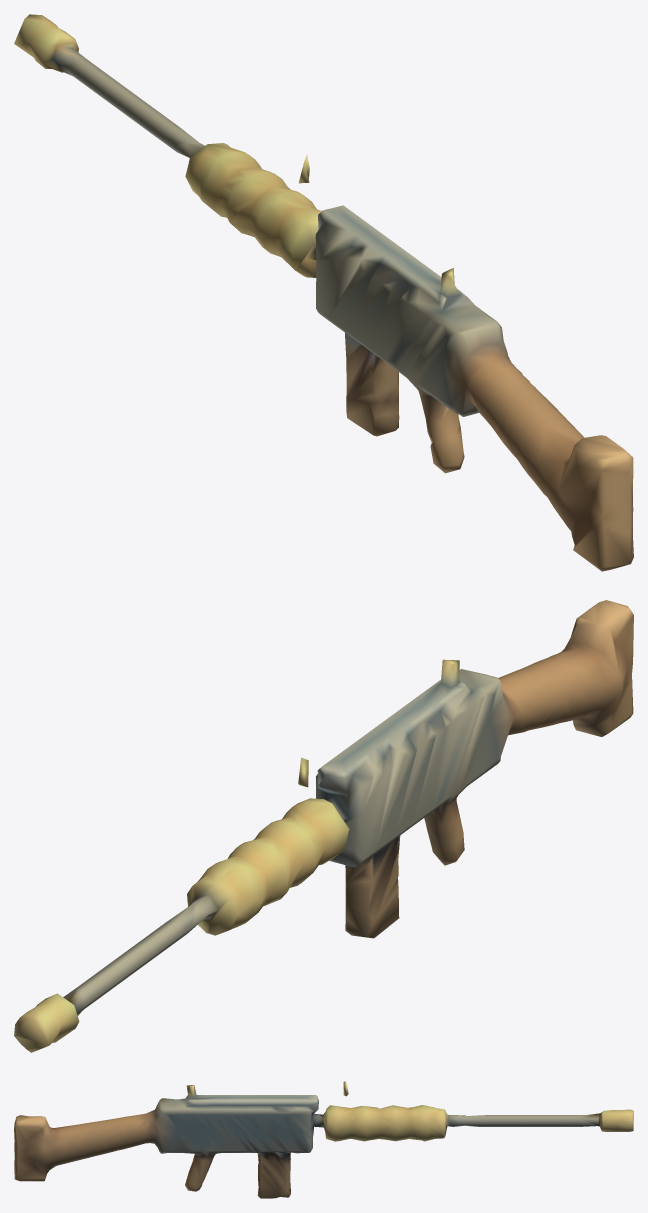
The model's file is hero_rifle_body.glb.
3 renders of one model, top to bottom at view 1: azimuth 30°, elevation 25°; view 2: azimuth 150°, elevation 25°; view 3: azimuth 270°, elevation 25°, orthographic. The views are drawn at different scales.
Parts seen in each view (by area): view 1: geometry_0; view 2: geometry_0; view 3: geometry_0.
Part boxes in pixels (x1,y1,x2,y2): geometry_0: (14,14,633,571); geometry_0: (14,600,633,1052); geometry_0: (14,1081,633,1198).
Size of the model in its own units: 0.0682 by 0.2307 by 1.12.
